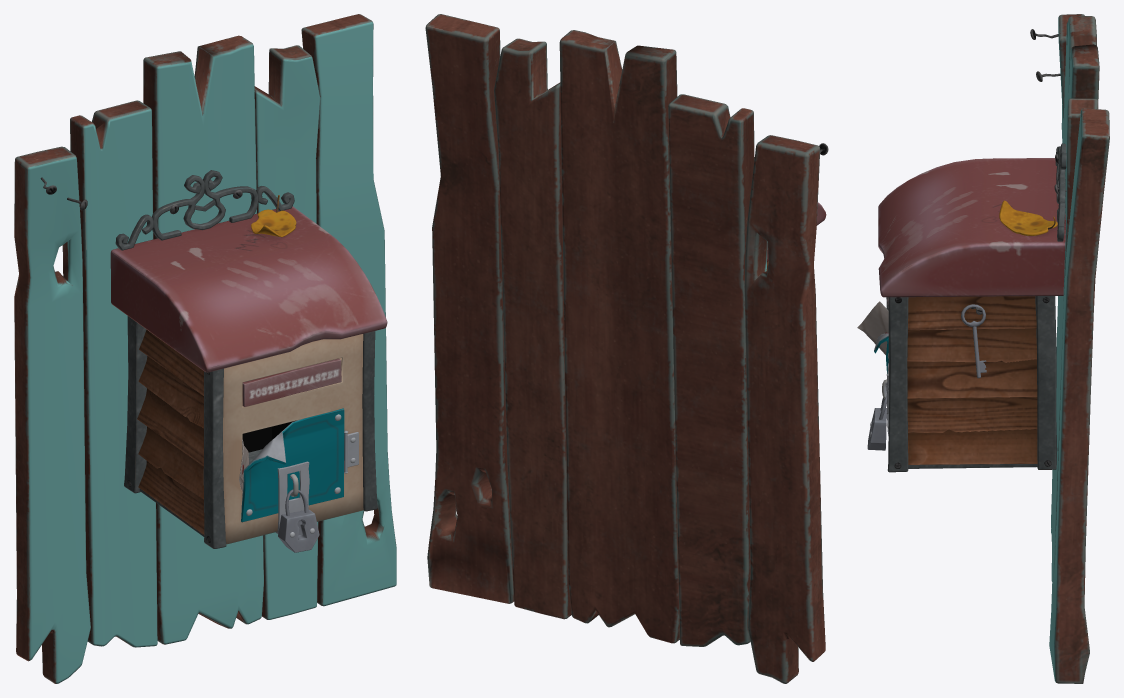
File: mailbox.glb
3 renders of one model, left to right at view 1: azimuth 30°, elevation 25°; view 2: azimuth 150°, elevation 25°; view 3: azimuth 270°, elevation 25°, orthographic. The views are drawn at different scales.
Parts seen in each view (by area): view 1: Final1; view 2: Final1; view 3: Final1.
Part boxes in pixels (x1,y1,x2,y2): Final1: [14, 14, 396, 683]; Final1: [425, 14, 828, 683]; Final1: [857, 14, 1109, 683].
Bounding box in the file's own units: 0.1055 × 0.1591 × 0.0637.
1 material, 1 textured.
